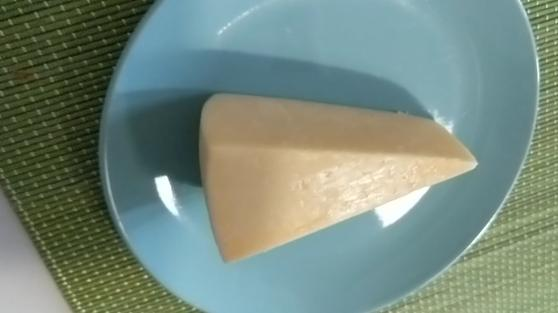cheese: (200, 91, 483, 264)
